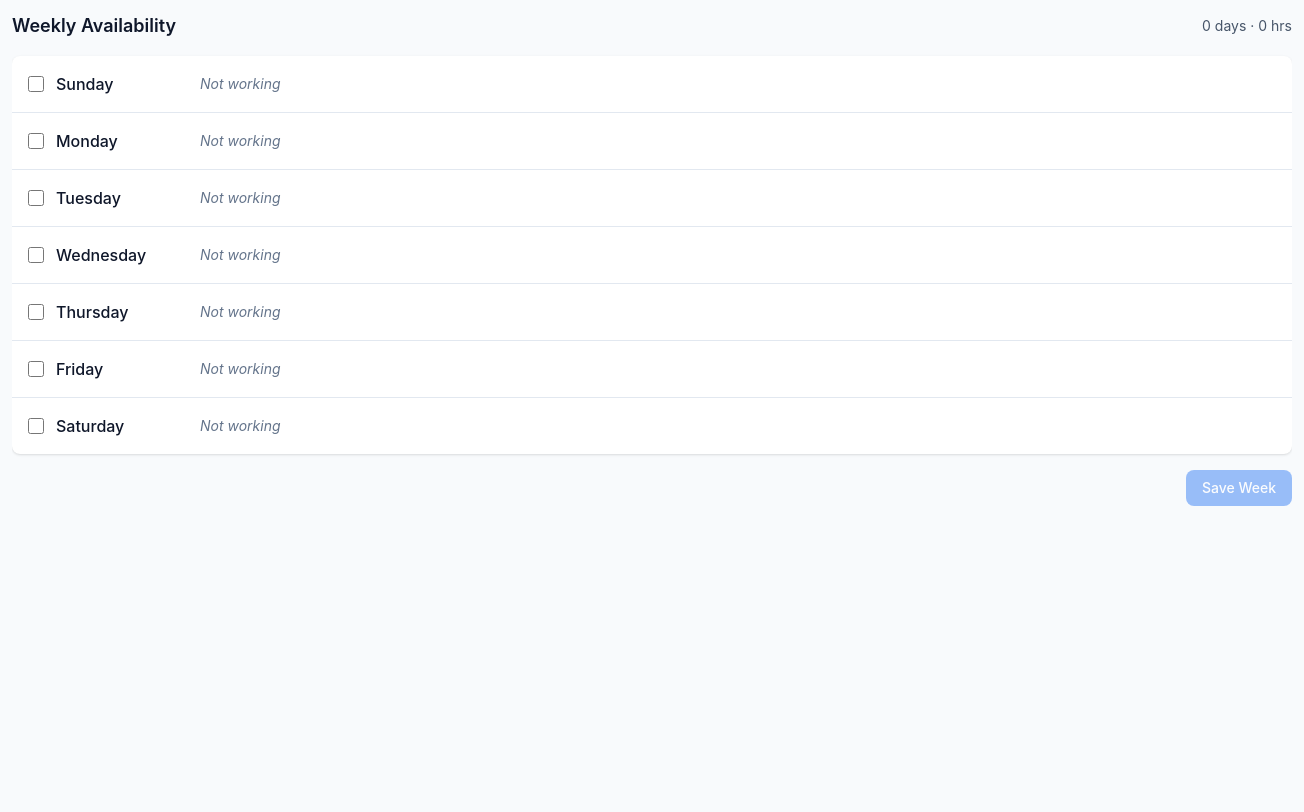
Test: WeeklyAvailabilityGrid - save the whole week in one request › shows an error and leaves local edits intact when the save fails
Click the checkbox named "Monday works this day".
click(36, 141)  # box [28,133,44,149]
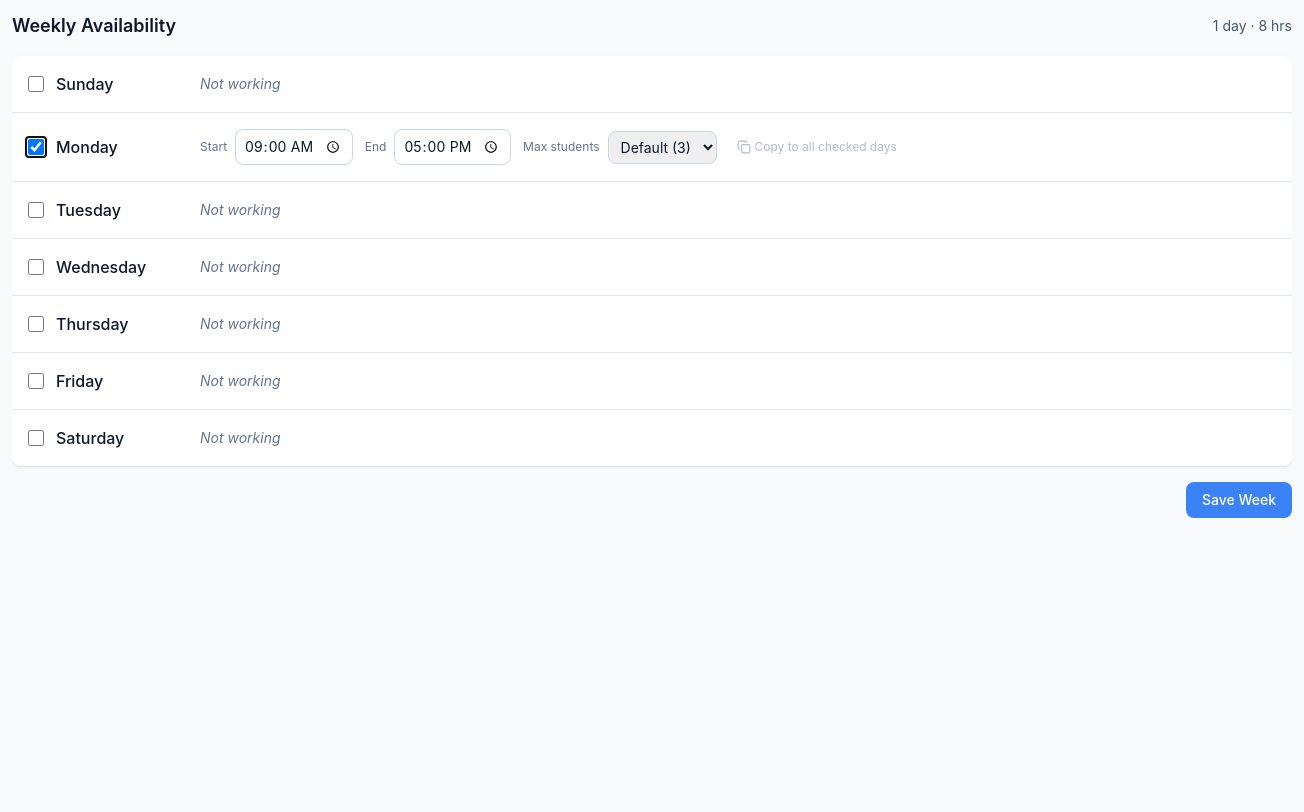
Click the button "Save Week".
click(1239, 500)  # box [1186,482,1292,518]
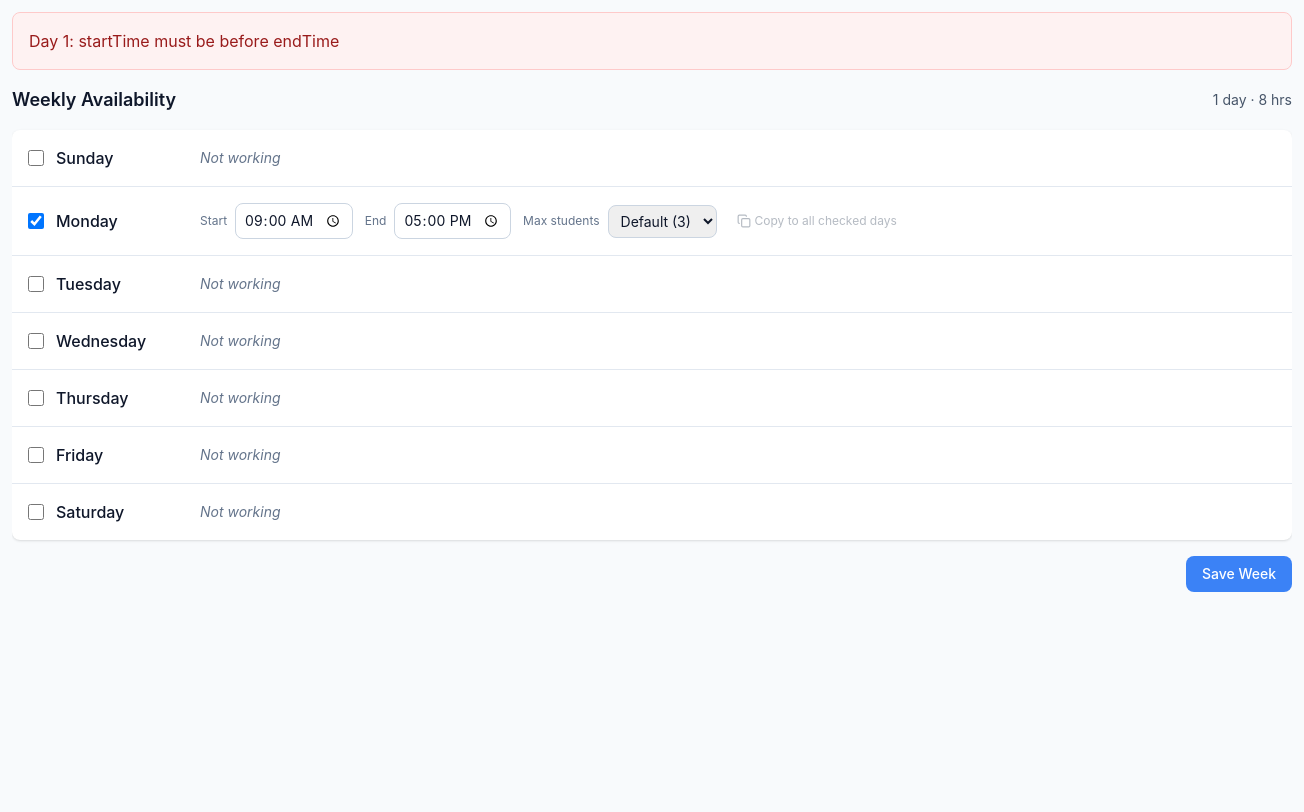
Expected: the checkbox named "Monday works this day" is checked, [28,213,44,229]
Expected: the text "Day 1: startTime must be before endTime" is shown, [29,31,339,51]
